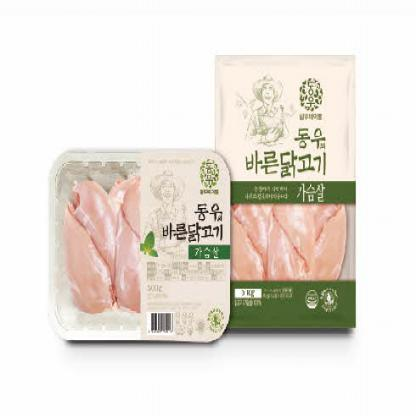chicken: (225, 190, 350, 286), (58, 198, 116, 320), (70, 176, 119, 305)
